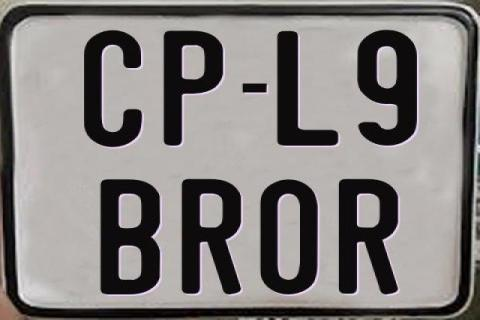0: (354, 30, 417, 148), (258, 178, 317, 294)
B: (99, 178, 160, 298)
C: (84, 31, 147, 149)
L: (277, 29, 344, 147)
P: (162, 28, 221, 144)
R: (183, 178, 246, 298), (338, 179, 401, 297)
